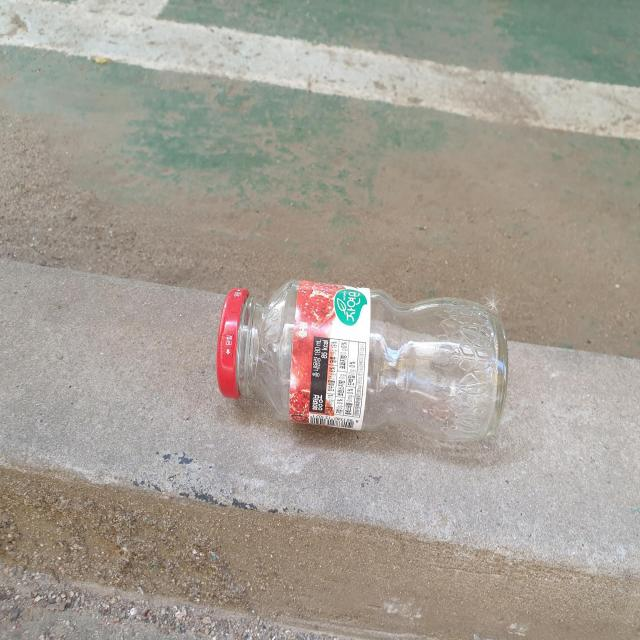glass: (217, 280, 509, 441)
